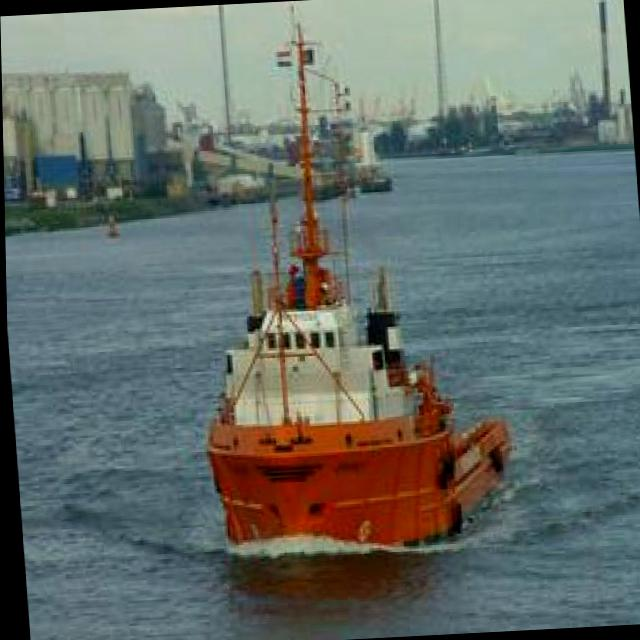ship2: (205, 42, 509, 559)
